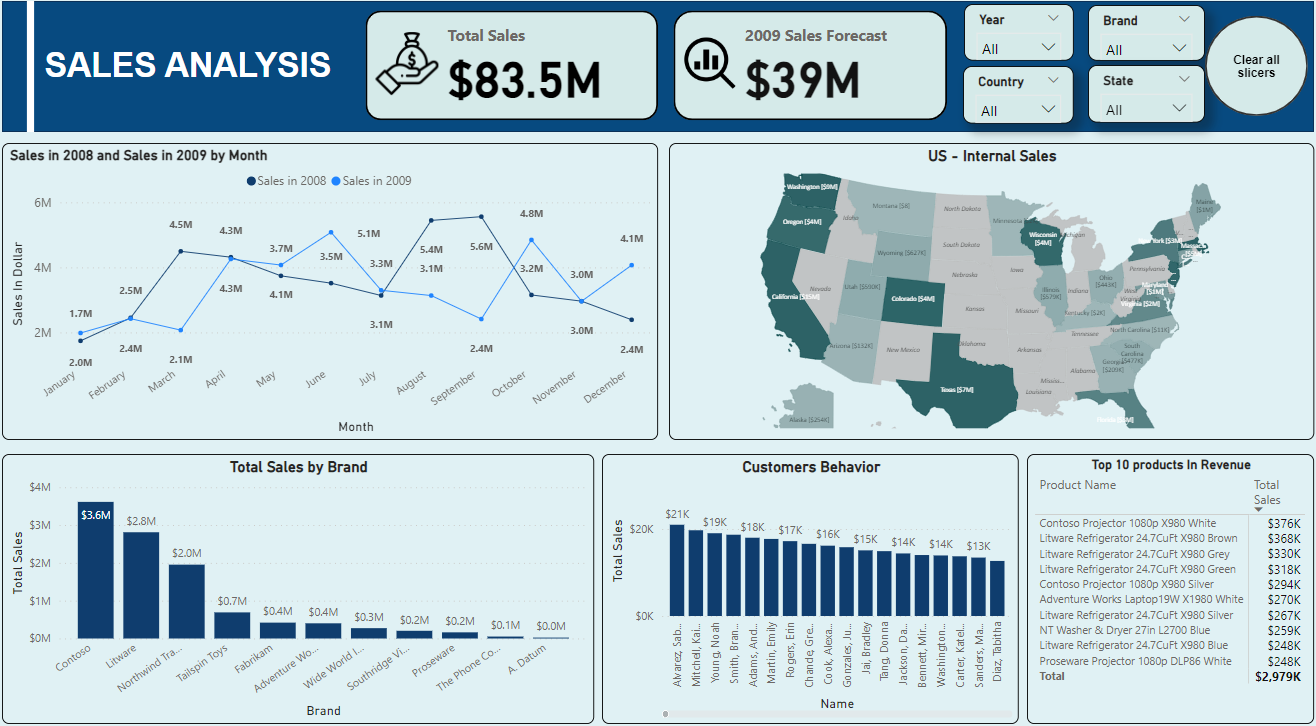

Layout of this report page (visuals, bound fields, positions):
{"tool":"powerbi","page":{"name":"Page 1","canvas":[1458,806],"ordinal":0},"visuals":[{"type":"shape","box":[0,0,1457.5,145],"z":500},{"type":"shape","box":[0,0,46.2,148.8],"z":625},{"type":"textbox","box":[0,0,406.2,145],"z":750},{"type":"cardVisual","fields":{"Data":["Sales.Total Sales"]},"box":[392.5,3.8,336.2,132.5],"z":1000},{"type":"pivotTable","title":"Top 10 products In Revenue","fields":{"Rows":["Products.Product Name"],"Values":["Sales.Total Sales"]},"box":[1133,494,312,300],"z":2000},{"type":"slicer","fields":{"Values":["Customers.CountryRegion"]},"box":[1052.2,72.2,123.3,63.3],"z":3000},{"type":"cardVisual","fields":{"Data":["Forecast.Total forecast sales"]},"box":[728.8,3.8,313.8,132.5],"z":4000},{"type":"PBI_CV_815282F9_27F5_4950_9430_E910E0A8DB6A","title":"US - Internal Sales","fields":{"Category":["Customers.State"],"Y":["Sales.Tot price"]},"box":[736.2,150,708.8,330],"z":5000},{"type":"lineChart","fields":{"Category":["Date.Month","Date.Quarter","Date.Week Number"],"Y":["Sales.Sales in 2008","Sales.Sales in 2009"]},"box":[8.8,150,712.5,330],"z":6000},{"type":"columnChart","fields":{"Category":["Brand Bridge.Brand","Products.Category","Products.Subcategory","Products.Product Name"],"Y":["Sales.Total Sales"]},"box":[9.2,494.2,640.8,300],"z":7000},{"type":"slicer","fields":{"Values":["Year Bridge.Year"]},"box":[1052,3.3,123.3,63.3],"z":8000},{"type":"slicer","fields":{"Values":["Brand Bridge.Brand"]},"box":[1185.6,3.1,110,63.1],"z":9000},{"type":"slicer","fields":{"Values":["Customers.State"]},"box":[1185.6,72.2,110,63.3],"z":10000},{"type":"columnChart","title":"Customers Behavior","fields":{"Category":["Customers.Name","Customers.Occupation","Customers.Education","Products.Category","Products.Subcategory","Brand Bridge.Brand"],"Y":["Sales.Total Sales"]},"box":[658.8,493.8,463.8,300],"z":11000},{"type":"actionButton","box":[1316,13.8,114,114],"z":12000}]}

Visuals, with their boxes in screenshot pixels (x1, y1, x2, y2), scaled from the page's 1458x806 canvas onto the 1316x726 screenshot:
shape: <region>0, 0, 1315, 131</region>
shape: <region>0, 0, 42, 134</region>
textbox: <region>0, 0, 367, 131</region>
cardVisual - Sales.Total Sales: <region>354, 3, 658, 123</region>
"Top 10 products In Revenue" pivotTable: <region>1023, 445, 1304, 715</region>
slicer - Customers.CountryRegion: <region>950, 65, 1061, 122</region>
cardVisual - Forecast.Total forecast sales: <region>658, 3, 941, 123</region>
"US - Internal Sales" PBI_CV_815282F9_27F5_4950_9430_E910E0A8DB6A: <region>664, 135, 1304, 432</region>
lineChart - Date.Month x Date.Quarter: <region>8, 135, 651, 432</region>
columnChart - Brand Bridge.Brand x Products.Category: <region>8, 445, 587, 715</region>
slicer - Year Bridge.Year: <region>950, 3, 1061, 60</region>
slicer - Brand Bridge.Brand: <region>1070, 3, 1169, 60</region>
slicer - Customers.State: <region>1070, 65, 1169, 122</region>
"Customers Behavior" columnChart: <region>595, 445, 1013, 715</region>
actionButton: <region>1188, 12, 1291, 115</region>
